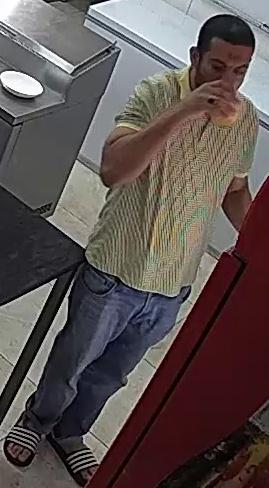no_apron: (89, 62, 261, 287)
